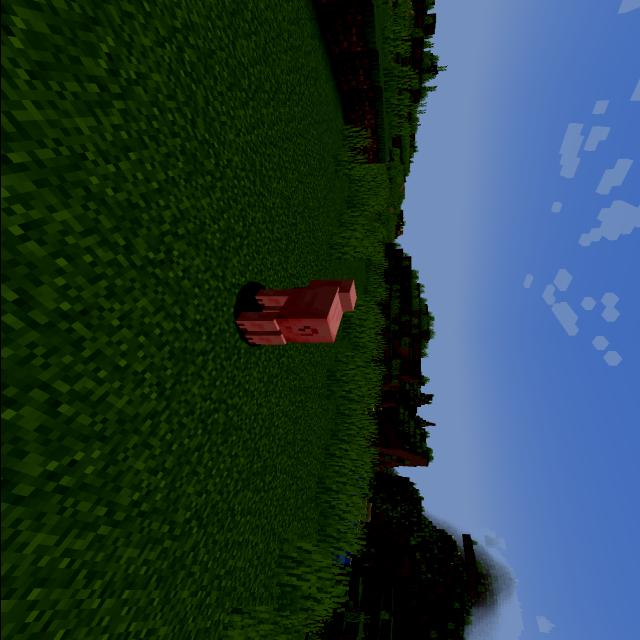pig: (222, 273, 368, 353)
